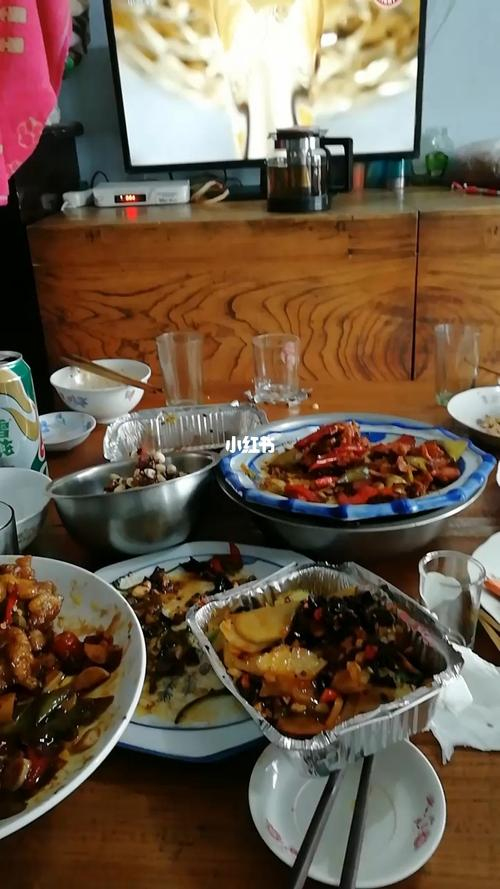food: (71, 536, 388, 753), (187, 555, 460, 739), (2, 544, 136, 814), (226, 404, 479, 542), (102, 537, 276, 733), (58, 439, 209, 550), (51, 352, 147, 418)
